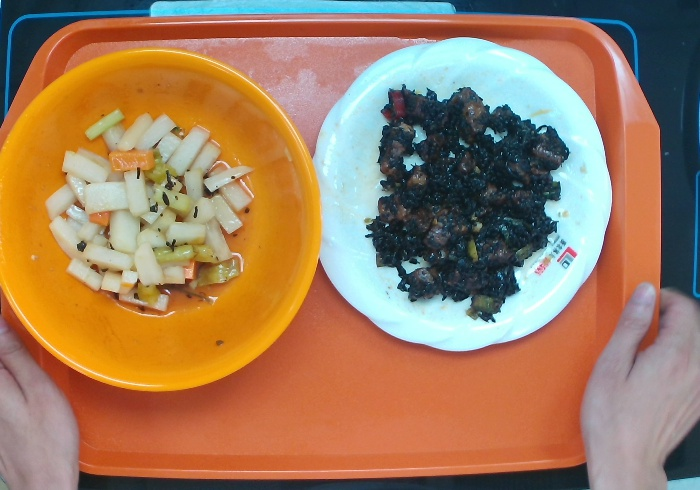ZNLD-Hua_Bian_Wan: (311, 35, 614, 352)
ZNLD-Ju_Se_Tang_Wan: (1, 44, 323, 393)
